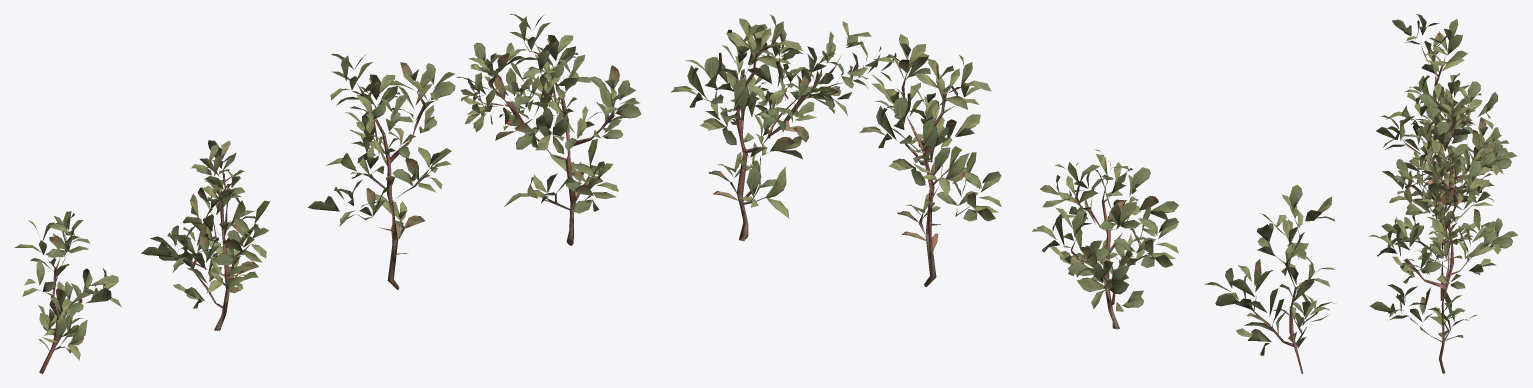
Rendered from shrub_04.glb.
The picture shows the model from 3 angles, left to right: view 1: azimuth 30°, elevation 25°; view 2: azimuth 150°, elevation 25°; view 3: azimuth 270°, elevation 25°; orthographic projection. The views are drawn at different scales.
Parts seen in each view (by area): view 1: shrub_04; view 2: shrub_04; view 3: shrub_04.
Part boxes in pixels (left/top/right/bottom): shrub_04: left=14, top=14, right=641, bottom=373; shrub_04: left=671, top=14, right=1336, bottom=373; shrub_04: left=1368, top=14, right=1518, bottom=373.
Bounding box in the file's own units: 0.5837 × 0.2192 × 0.1461.
Materials: 1 (1 with a texture image).
